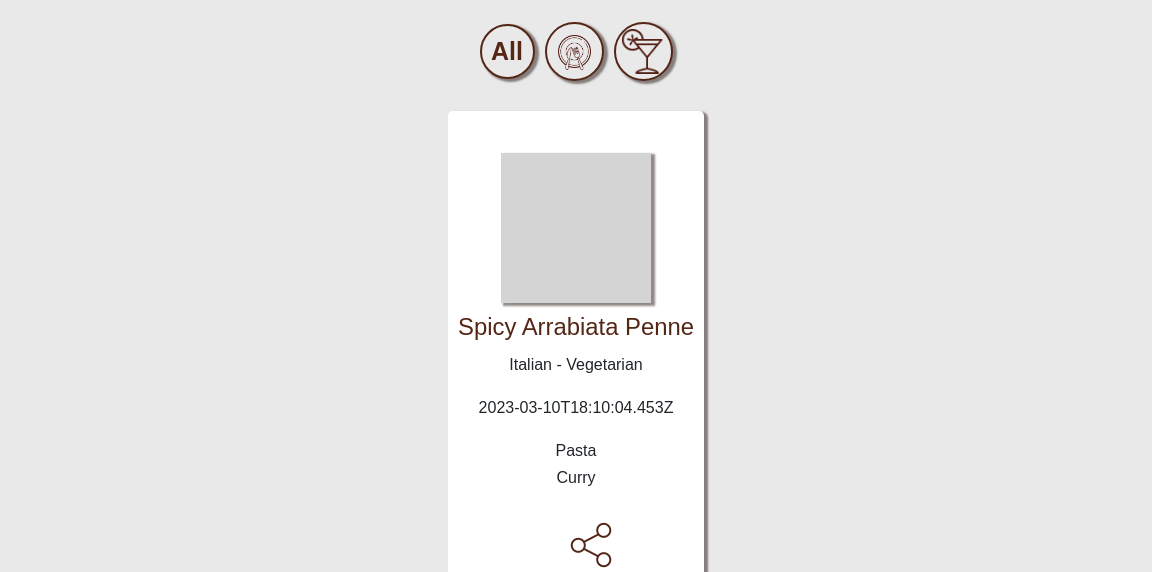
Test: Testando a  Pagina DoneRecipes › testando conteudo da pagina com as receitas botao filtro meal
Expected: the button with test id "filter-by-all-btn" is shown, [480,24,534,79]
Expected: the button with test id "filter-by-meal-btn" is shown, [544,22,604,81]
Click the button with test id "filter-by-drink-btn" at (643, 52), box [614,22,672,81]
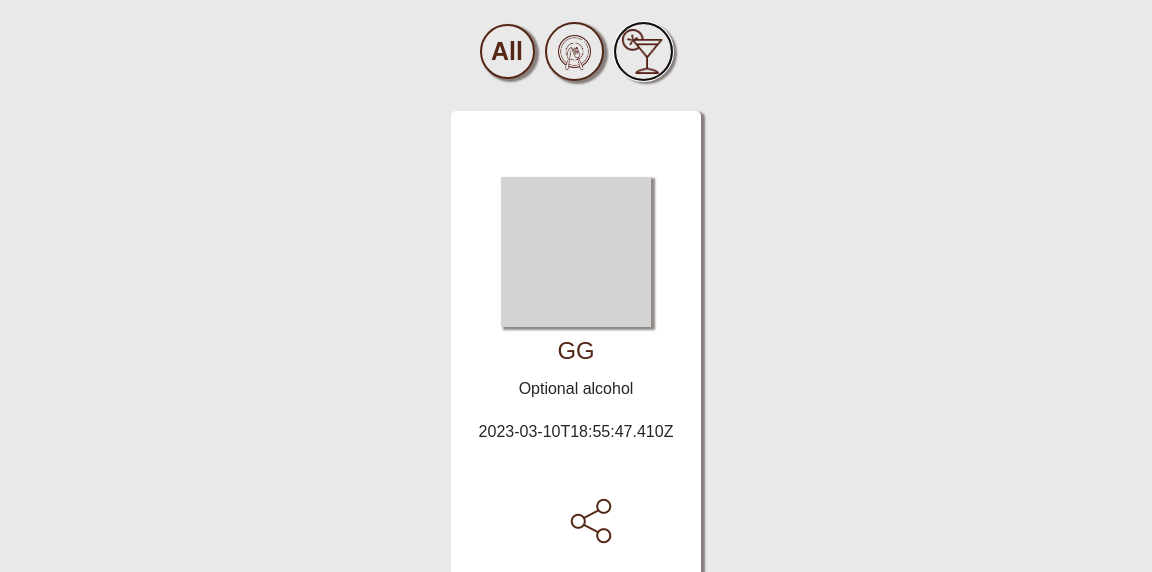
Expected: the heading "GG" is shown, [558,337,595,366]
Click the button with test id "filter-by-all-btn" at (507, 52), box [480,24,534,79]
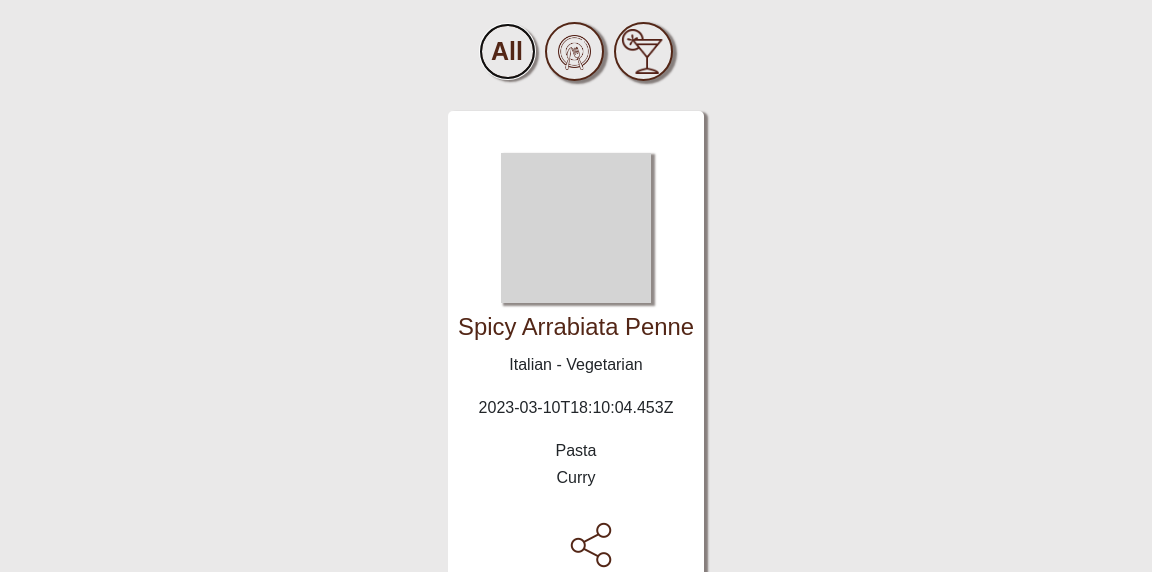
Expected: the picture with test id "0-horizontal-share-btn" is shown, [566,520,616,570]
Expected: the heading "Spicy Arrabiata Penne" is shown, [458,313,694,342]
Click the button with test id "0-horizontal-share-btn" at (576, 545), box [566,520,586,570]
(page scrolled)
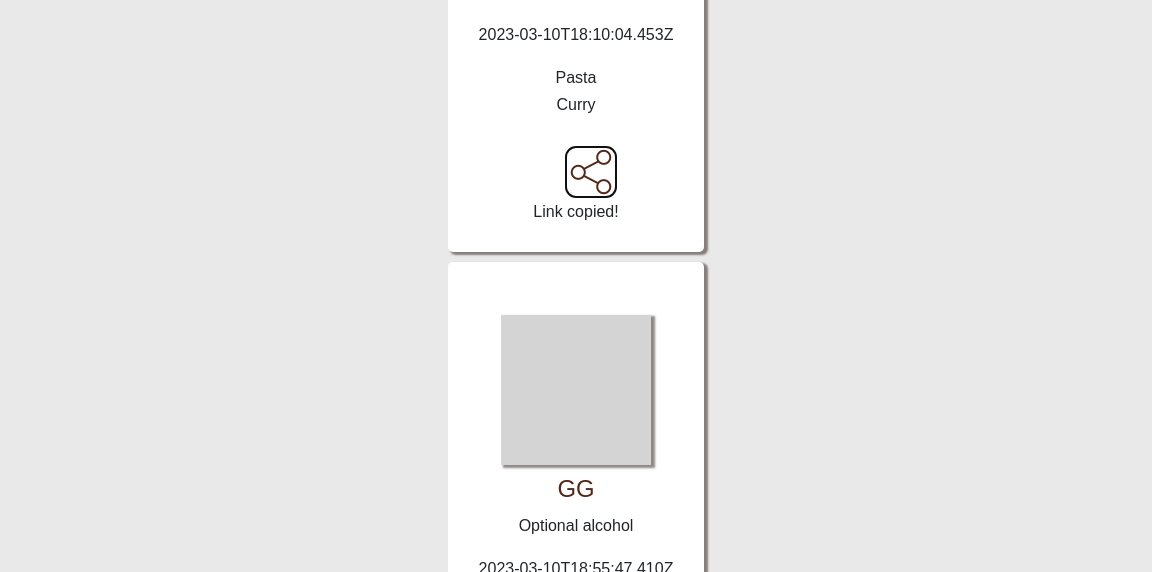
Expected: the text "Link copied!" is shown, [533,200,619,224]
